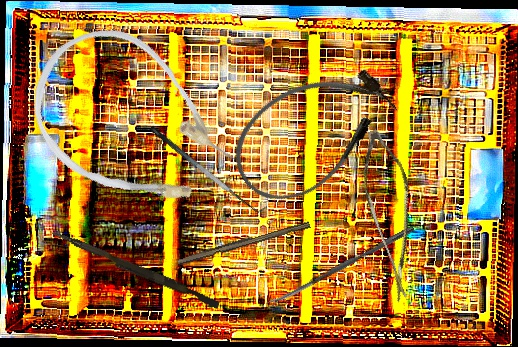Cannula: (4, 2, 260, 246), (215, 45, 410, 220)
Micro Scissor: (337, 125, 448, 304)
Pusher: (47, 229, 222, 309)
Scalpel Handle: (176, 217, 311, 268)
Spatula Surgical: (148, 116, 268, 221)
Surgical Spoon: (265, 224, 415, 309)
